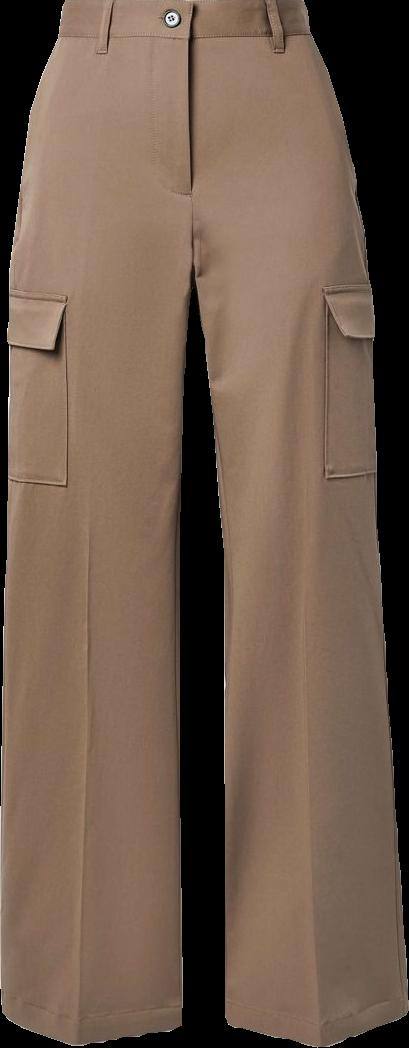Hemline: (0, 1002, 184, 1046), (224, 1004, 408, 1047)
Pantleg: (193, 0, 408, 1044), (1, 0, 197, 1044)
Waistline: (54, 25, 313, 50), (61, 0, 306, 13)
